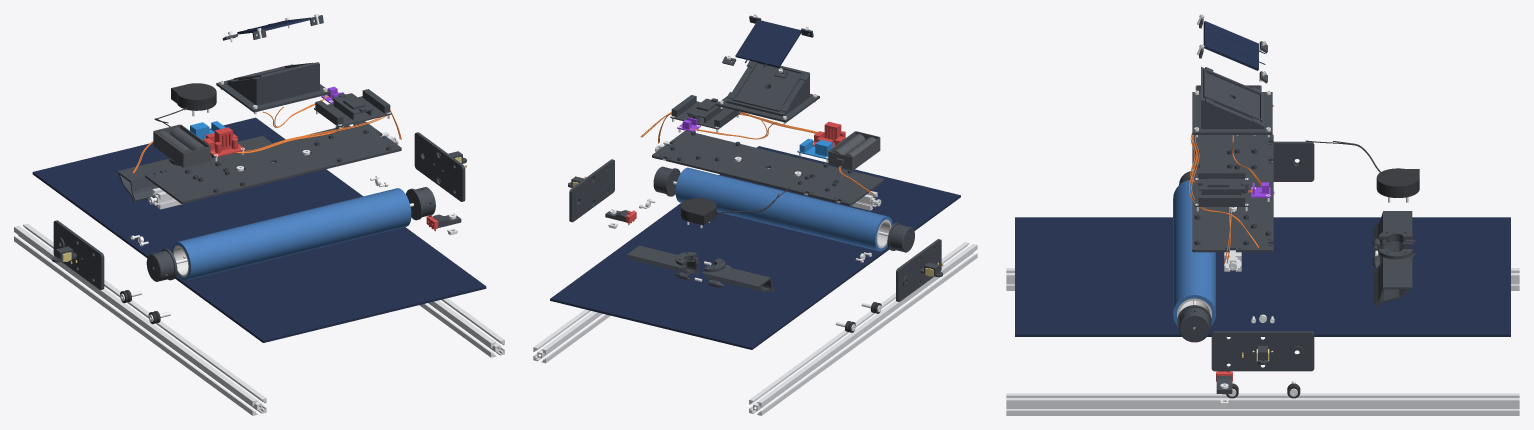
The model's file is arc_exploded_textured.glb.
3 renders of one model, left to right at view 1: azimuth 30°, elevation 25°; view 2: azimuth 150°, elevation 25°; view 3: azimuth 270°, elevation 25°, orthographic. The views are drawn at different scales.
Parts seen in each view (by area): view 1: exploded_cots_solar_panel, exploded_roller_sleeve, exploded_chassis_tray, exploded_cots_guide_rail_left, exploded_solar_wedge, exploded_endplate_right, exploded_cots_esp32_shield, exploded_endplate_left, exploded_cots_guide_rail_right, exploded_cots_battery_2x18650, exploded_cowl_left, exploded_cots_blower_5015 (+3 smaller); view 2: exploded_cots_solar_panel, exploded_roller_sleeve, exploded_chassis_tray, exploded_cots_guide_rail_left, exploded_solar_wedge, exploded_cots_pv_mini_panel, exploded_endplate_right, exploded_cots_guide_rail_right, exploded_endplate_left, exploded_cots_battery_2x18650, exploded_cots_esp32_shield, exploded_cowl_right (+6 smaller); view 3: exploded_cots_solar_panel, exploded_cots_guide_rail_right, exploded_chassis_tray, exploded_solar_wedge, exploded_endplate_right, exploded_roller_sleeve, exploded_cowl_right, exploded_cots_esp32_shield, exploded_endplate_left, exploded_cots_pv_mini_panel, exploded_cowl_left, exploded_cots_blower_5015 (+1 smaller).
Part boxes in pixels (<box>): exploded_cots_solar_panel: <box>32,117,486,342</box>; exploded_roller_sleeve: <box>171,188,411,280</box>; exploded_chassis_tray: <box>145,121,401,203</box>; exploded_cots_guide_rail_left: <box>14,223,266,415</box>; exploded_solar_wedge: <box>216,62,330,112</box>; exploded_endplate_right: <box>414,132,465,201</box>; exploded_cots_esp32_shield: <box>314,89,391,127</box>; exploded_endplate_left: <box>53,220,104,289</box>; exploded_cots_guide_rail_right: <box>419,298,504,357</box>; exploded_cots_battery_2x18650: <box>153,124,210,167</box>; exploded_cowl_left: <box>117,158,179,202</box>; exploded_cots_blower_5015: <box>171,83,216,110</box>; exploded_cots_solar_panel: <box>550,146,960,349</box>; exploded_roller_sleeve: <box>675,167,892,251</box>; exploded_chassis_tray: <box>652,131,883,205</box>; exploded_cots_guide_rail_left: <box>749,242,977,415</box>; exploded_solar_wedge: <box>716,60,819,122</box>; exploded_cots_pv_mini_panel: <box>735,19,801,67</box>; exploded_endplate_right: <box>569,159,614,222</box>; exploded_cots_guide_rail_right: <box>533,309,610,363</box>; exploded_endplate_left: <box>896,239,941,301</box>; exploded_cots_battery_2x18650: <box>828,131,880,170</box>; exploded_cots_esp32_shield: <box>670,95,740,129</box>; exploded_cowl_right: <box>627,245,699,280</box>; exploded_cots_solar_panel: <box>1015,217,1510,336</box>; exploded_cots_guide_rail_right: <box>1006,393,1519,415</box>; exploded_chassis_tray: <box>1192,135,1273,252</box>; exploded_solar_wedge: <box>1192,67,1272,134</box>; exploded_endplate_right: <box>1211,331,1314,371</box>; exploded_roller_sleeve: <box>1173,180,1215,326</box>; exploded_cowl_right: <box>1372,249,1415,307</box>; exploded_cots_esp32_shield: <box>1195,170,1248,206</box>; exploded_endplate_left: <box>1269,141,1314,181</box>; exploded_cots_pv_mini_panel: <box>1203,21,1265,70</box>; exploded_cowl_left: <box>1372,211,1415,258</box>; exploded_cots_blower_5015: <box>1376,168,1419,197</box>.
Size of the model in its own units: 0.6 by 0.4131 by 0.6.
